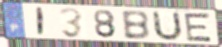3: (59, 7, 86, 39)
8: (92, 9, 117, 39)
B: (120, 10, 152, 41)
E: (183, 12, 215, 44)
I: (36, 6, 45, 37)
U: (152, 10, 184, 42)
